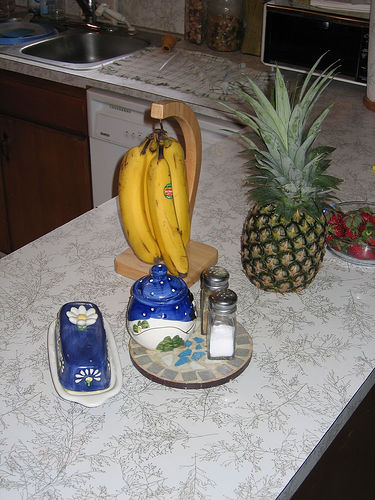pineapple: (216, 50, 340, 295)
